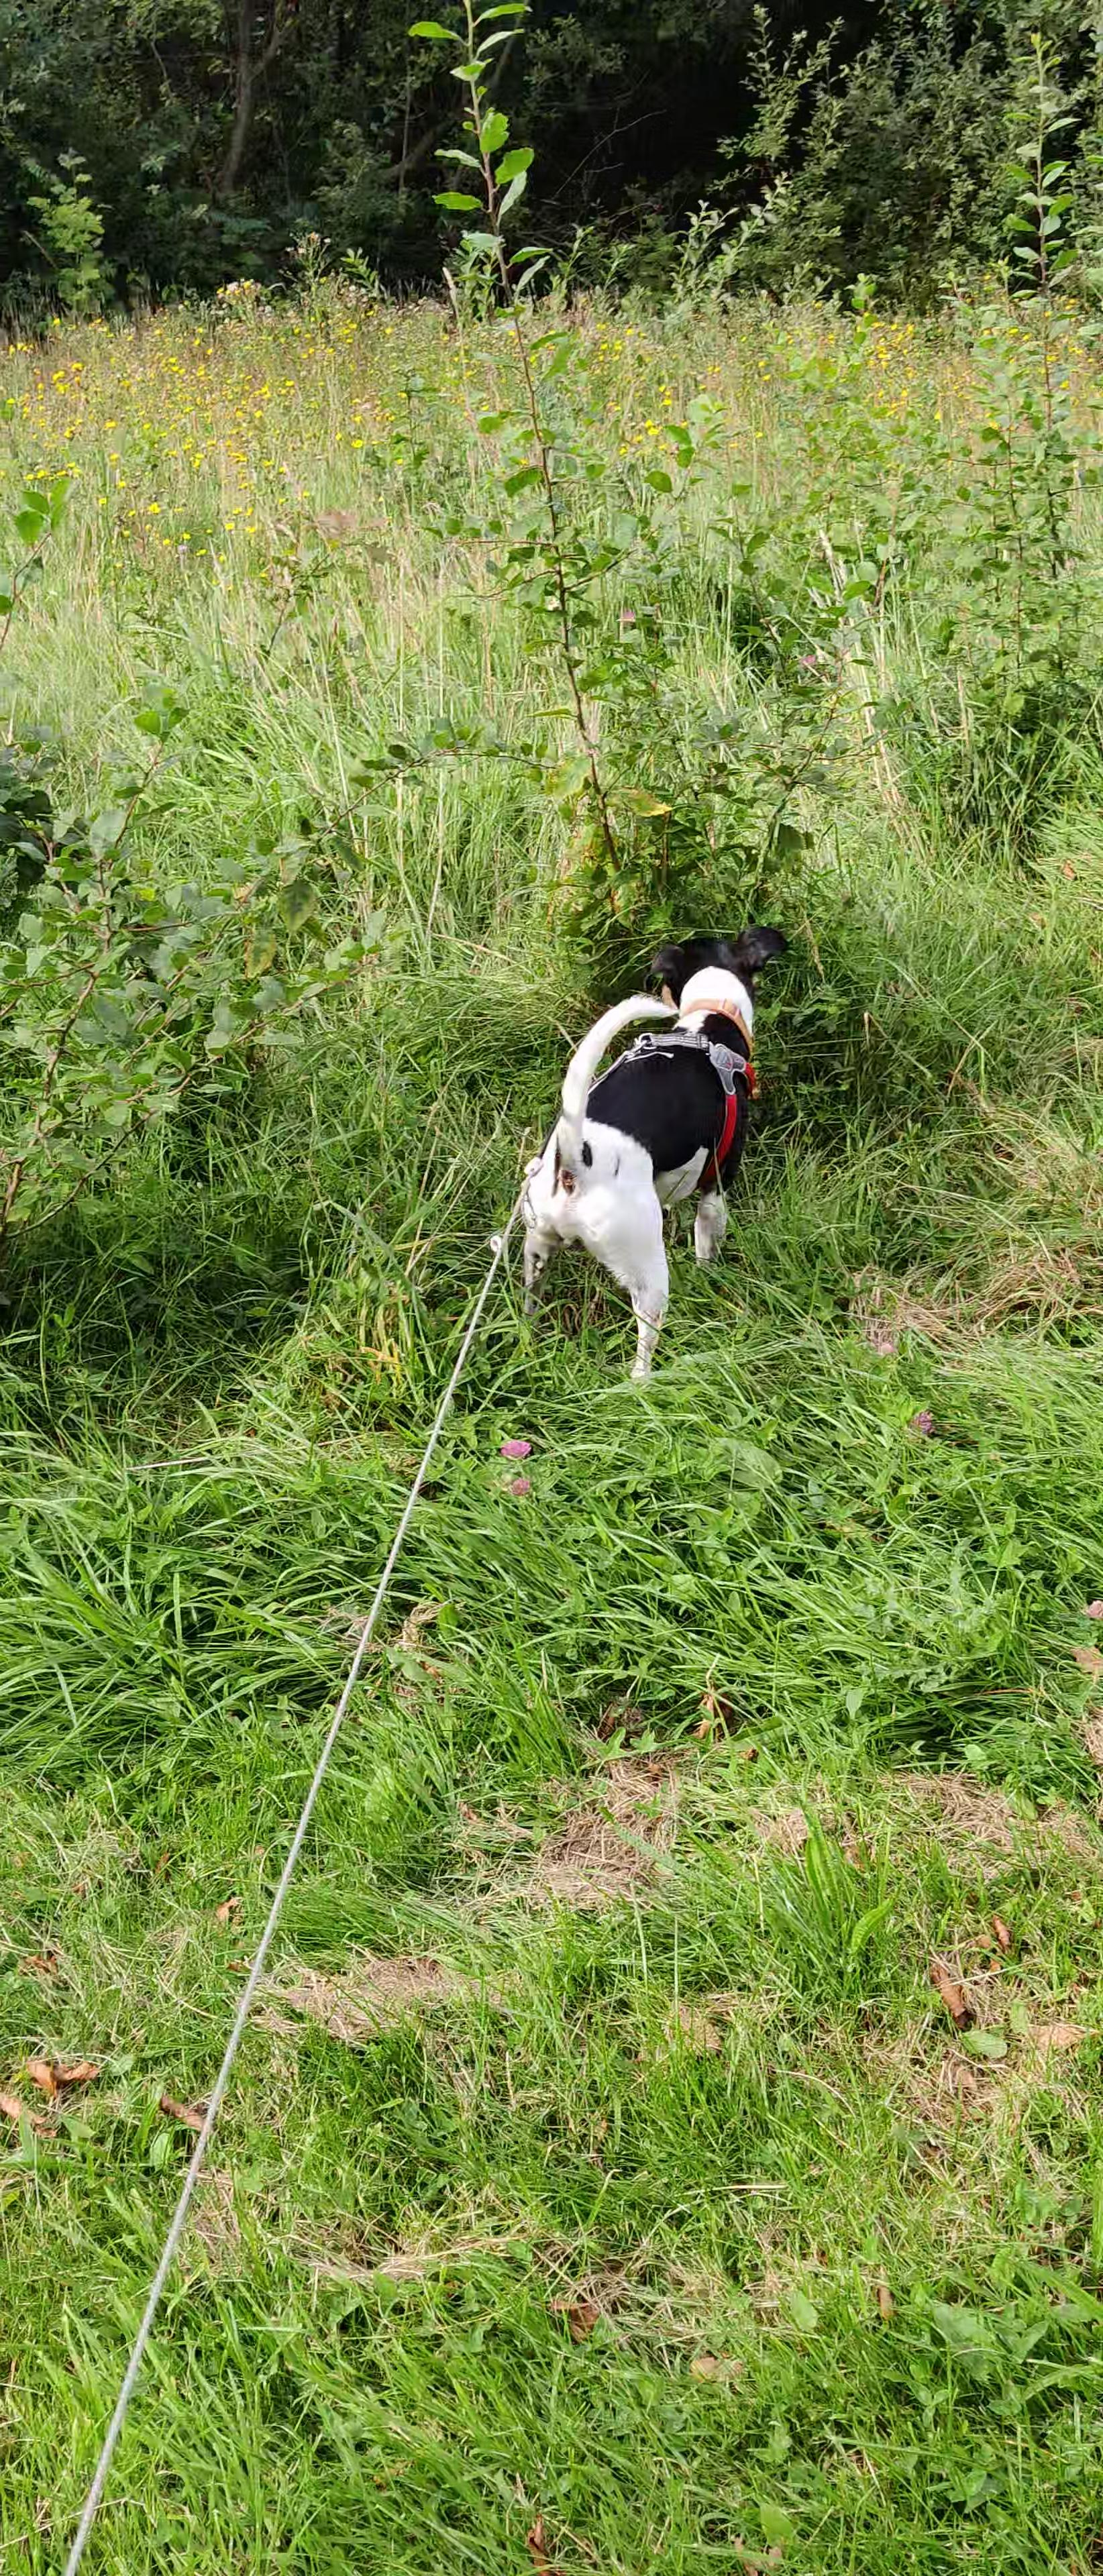Dog: (505, 907, 796, 1387)
